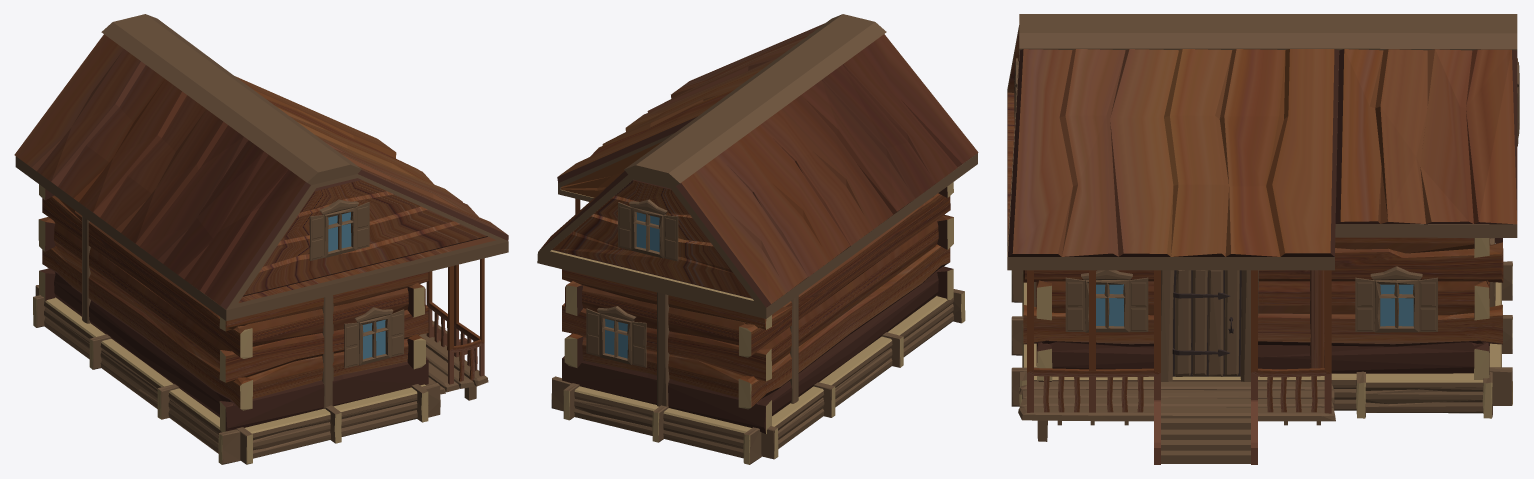
File: wood_house.glb
3 renders of one model, left to right at view 1: azimuth 30°, elevation 25°; view 2: azimuth 150°, elevation 25°; view 3: azimuth 270°, elevation 25°, orthographic. The views are drawn at different scales.
Parts seen in each view (by area): view 1: House_0; view 2: House_0; view 3: House_0.
Part boxes in pixels (left/top/right/bottom): House_0: left=14, top=14, right=508, bottom=464; House_0: left=537, top=14, right=978, bottom=464; House_0: left=1007, top=14, right=1519, bottom=464.
Size of the model in its own units: 4.63 by 3.94 by 5.55.
5 materials, 1 textured.
